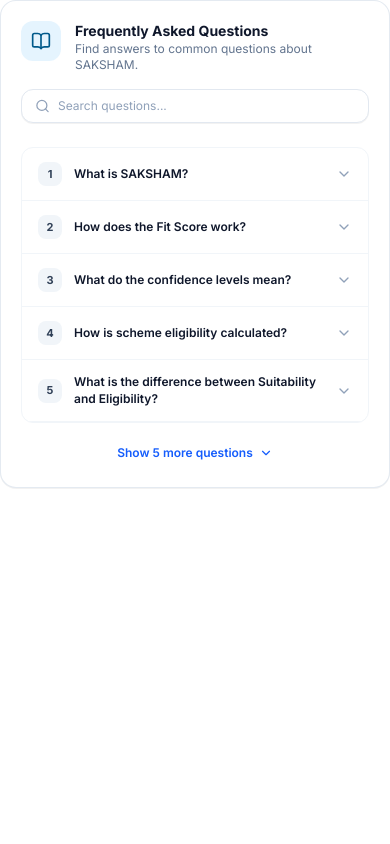
FaqAccordion › toggles mobile expansion button
Click the button "Show 5 more questions" at (195, 453), box [105,439,285,467]
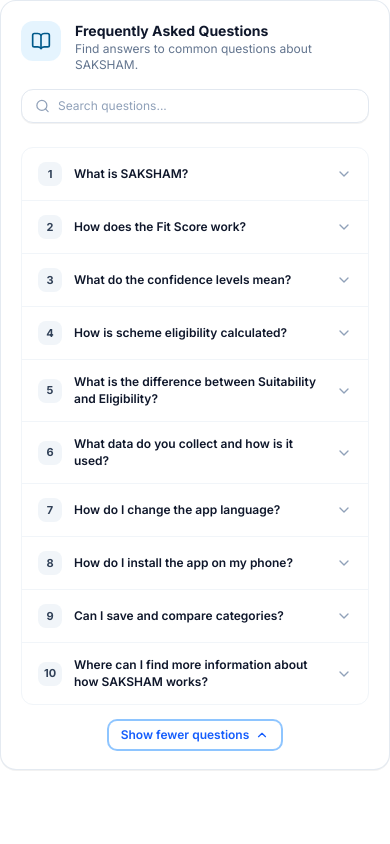
Expected: the button "Show fewer questions" is shown
Click the button "Show fewer questions" at (195, 735), box [109,721,281,749]
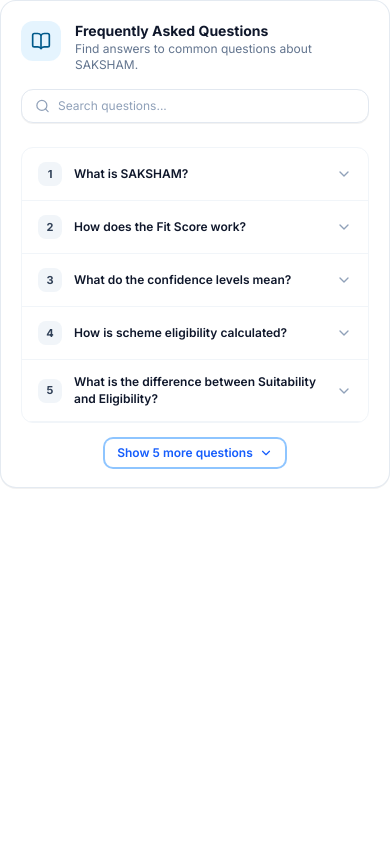
Expected: the button "Show 5 more questions" is shown, [105,439,285,467]
